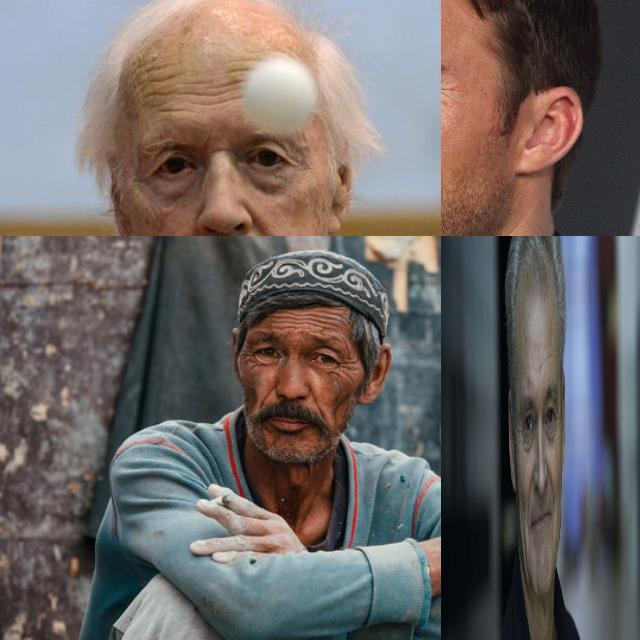crows_feet: (335, 353, 357, 375), (441, 76, 454, 104), (240, 344, 256, 364), (515, 422, 522, 454), (555, 410, 561, 438)
forehead: (198, 79, 238, 111), (144, 64, 178, 96), (150, 94, 190, 120), (230, 52, 253, 82), (321, 308, 342, 336), (270, 310, 292, 330), (296, 310, 316, 332), (541, 348, 556, 376), (522, 361, 532, 392)
gummy_smile: (545, 453, 555, 503), (257, 382, 275, 408), (307, 386, 323, 412), (526, 473, 534, 517), (255, 222, 280, 236)
masseter: (519, 513, 526, 576), (554, 516, 560, 567)
